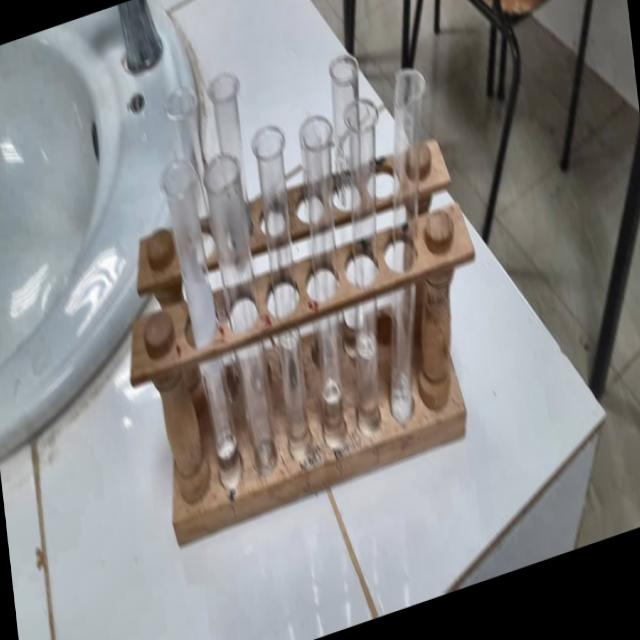Test Tube Racks: (131, 120, 491, 561)
